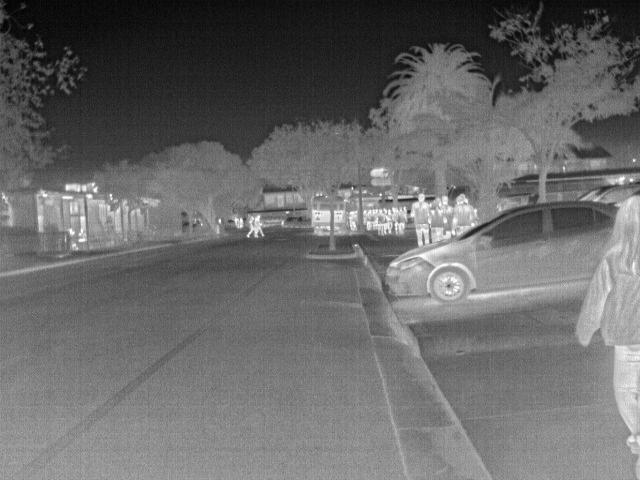car: (381, 199, 619, 306), (280, 214, 303, 228)
person: (577, 195, 639, 459), (450, 192, 480, 236), (410, 192, 433, 244), (65, 226, 80, 253), (251, 213, 266, 239), (243, 213, 257, 239), (75, 226, 89, 243)
